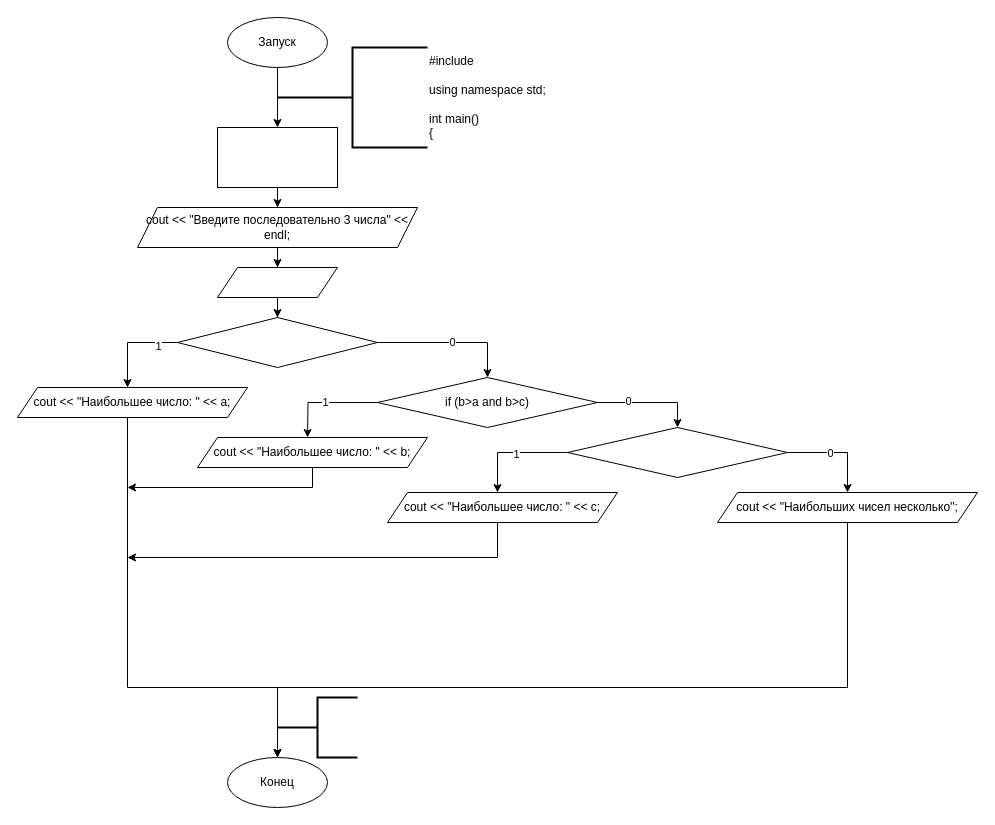
The diagram is 995 pixels wide and 825 high, and some of its shapes have lost their labels. Each missing label, with the centre of its shape:
"cin >> a >> b >> c;" belongs at (277,282).
"if (a>b and a>c)" belongs at (277,342).
"if (c>b and c>a)" belongs at (677,452).
"int a, b, c;" belongs at (277,157).
"return 0; }" belongs at (317,727).
